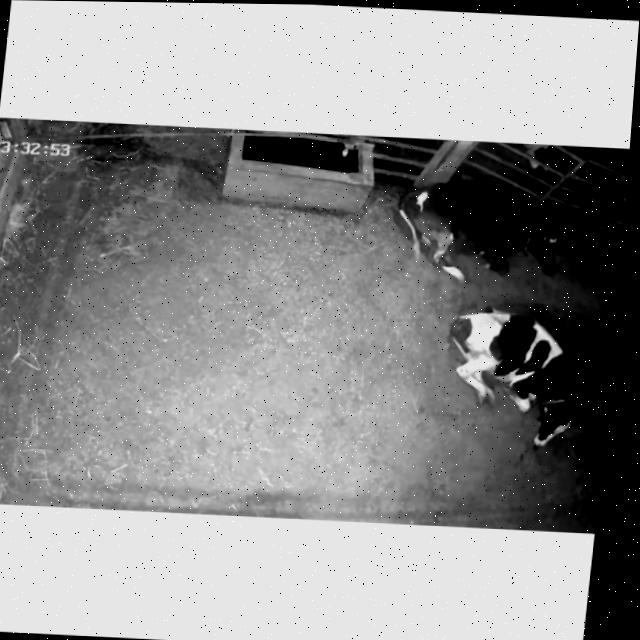lay: (416, 288, 593, 461), (383, 166, 576, 299)
